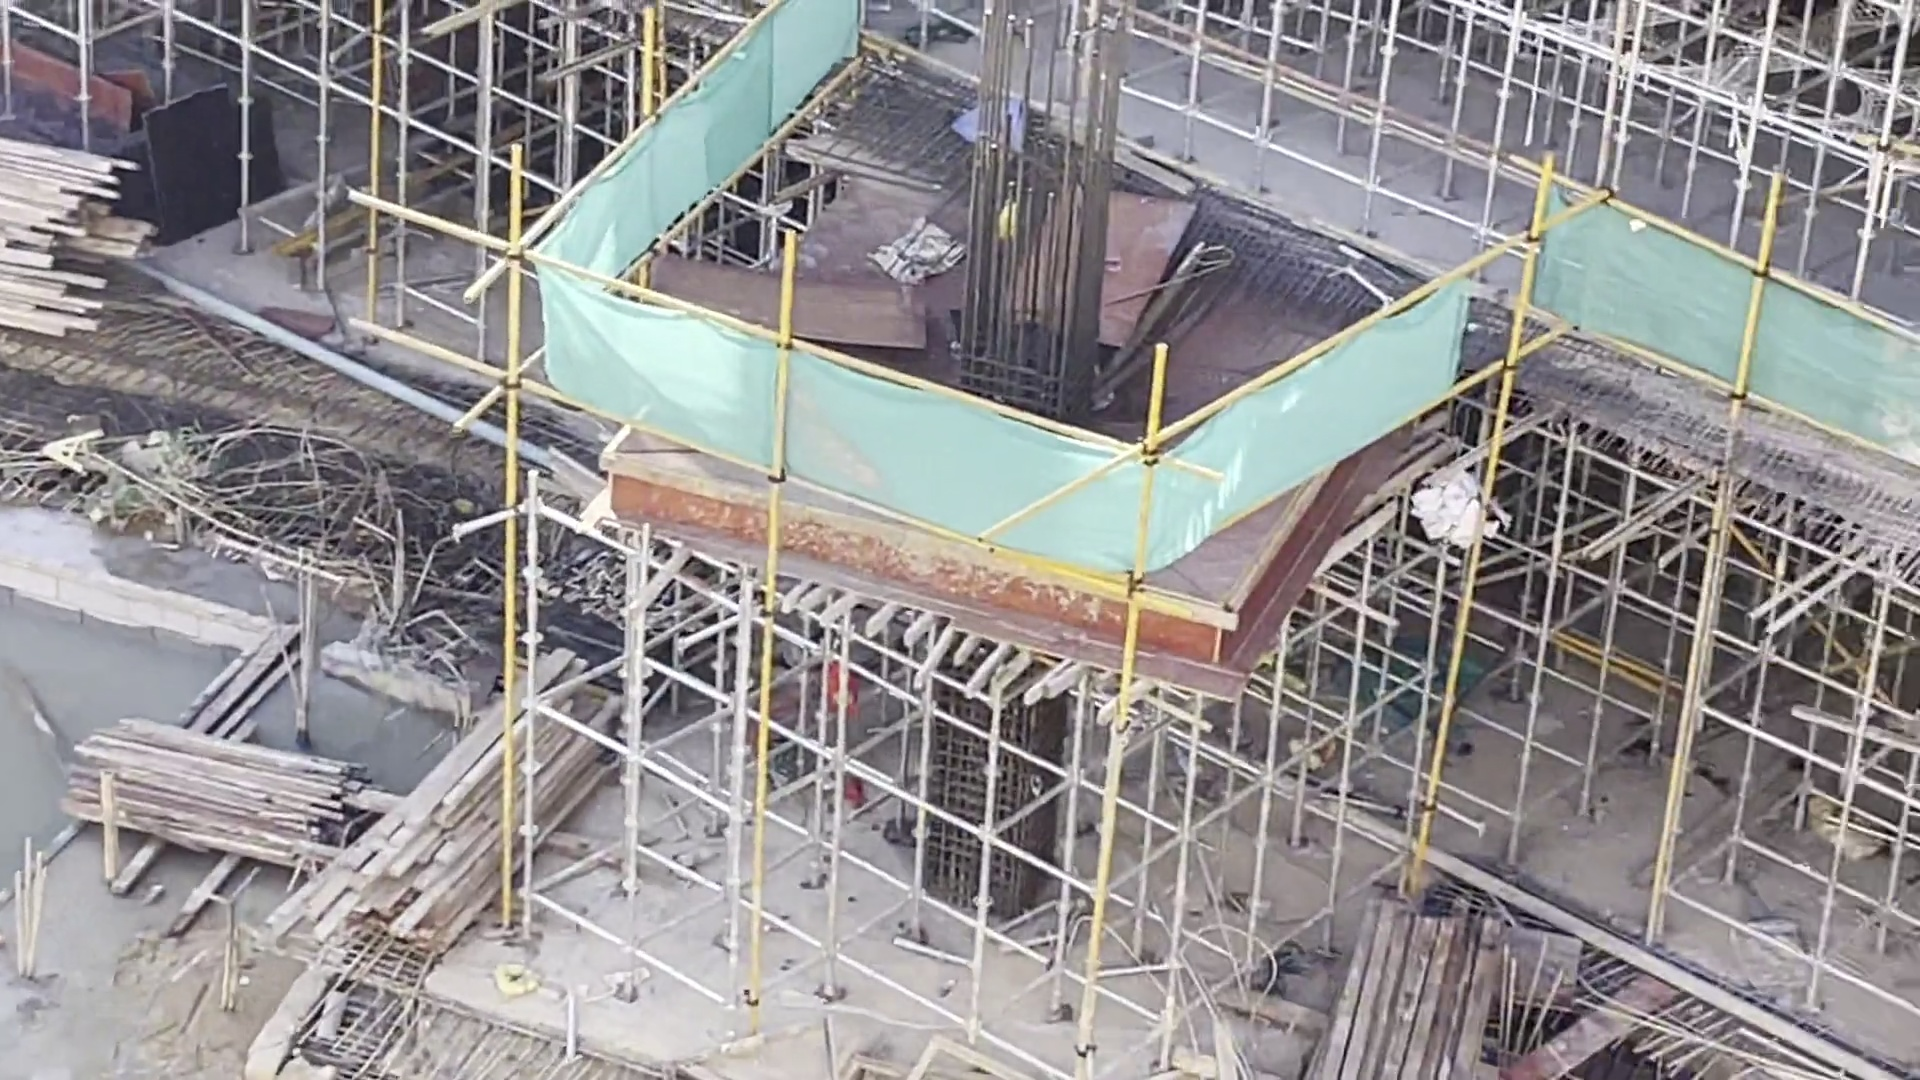wood: (355, 651, 634, 982), (59, 711, 380, 891), (1302, 887, 1524, 1080), (1, 123, 144, 352)
